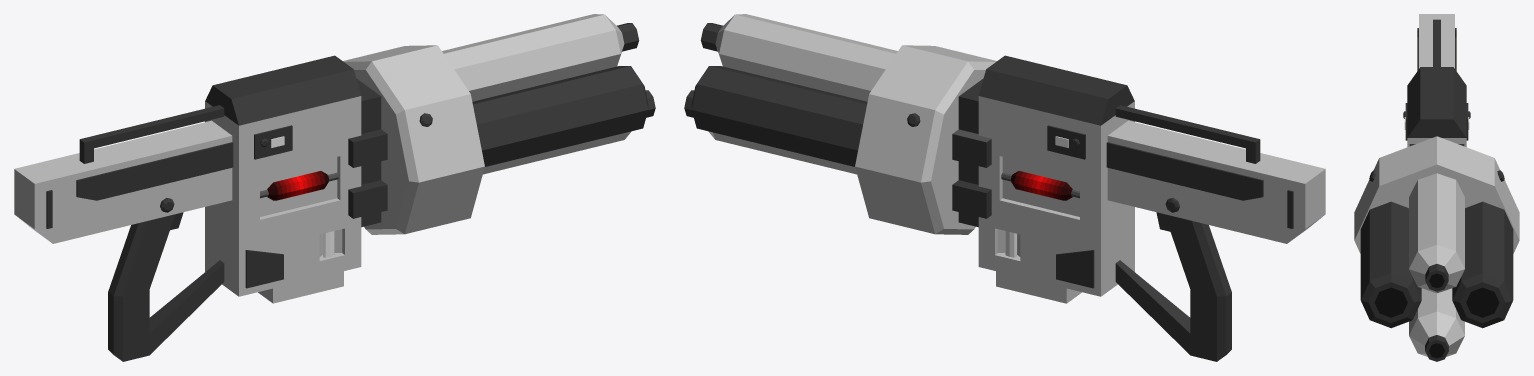
Rendered from Grenade_Launcher_V4.FBX.
3 views of the same model, side by side, from view 1: azimuth 30°, elevation 25°; view 2: azimuth 150°, elevation 25°; view 3: azimuth 270°, elevation 25° (orthographic). The views are drawn at different scales.
Visible parts, largest first — view 1: Grenade_Launcher_V4, Magazine; view 2: Grenade_Launcher_V4, Magazine; view 3: Grenade_Launcher_V4.
Boxes of the visible parts, x1,y1,x2,y2 form: Grenade_Launcher_V4: [14, 14, 655, 361]; Magazine: [258, 271, 343, 303]; Grenade_Launcher_V4: [684, 14, 1325, 361]; Magazine: [996, 271, 1081, 303]; Grenade_Launcher_V4: [1354, 14, 1519, 361].
Bounding box in the file's own units: 415 × 153 × 108.
